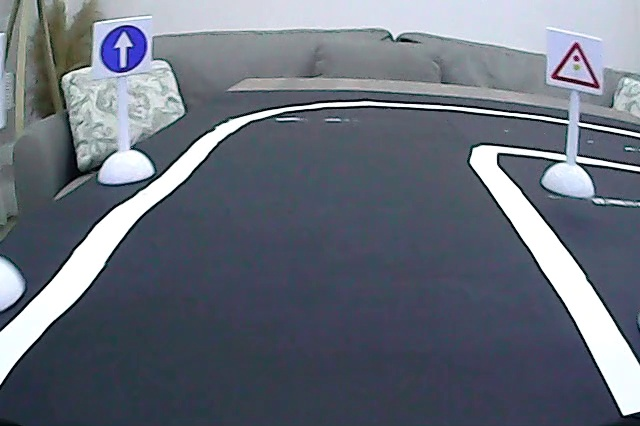red light: (547, 36, 603, 94)
